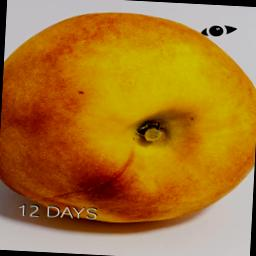Peach Unripe: (0, 3, 256, 235)
